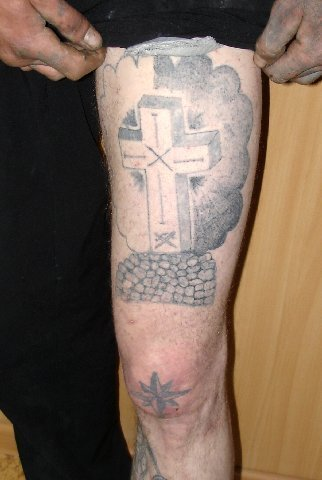tatu4_zvezda: (126, 366, 197, 419)
tatu9_krest: (116, 91, 226, 265)
